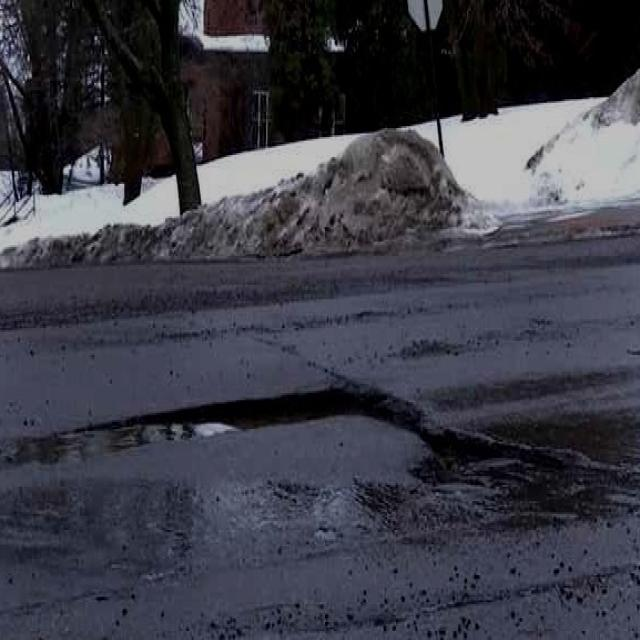road-pothole: (4, 383, 421, 467)
